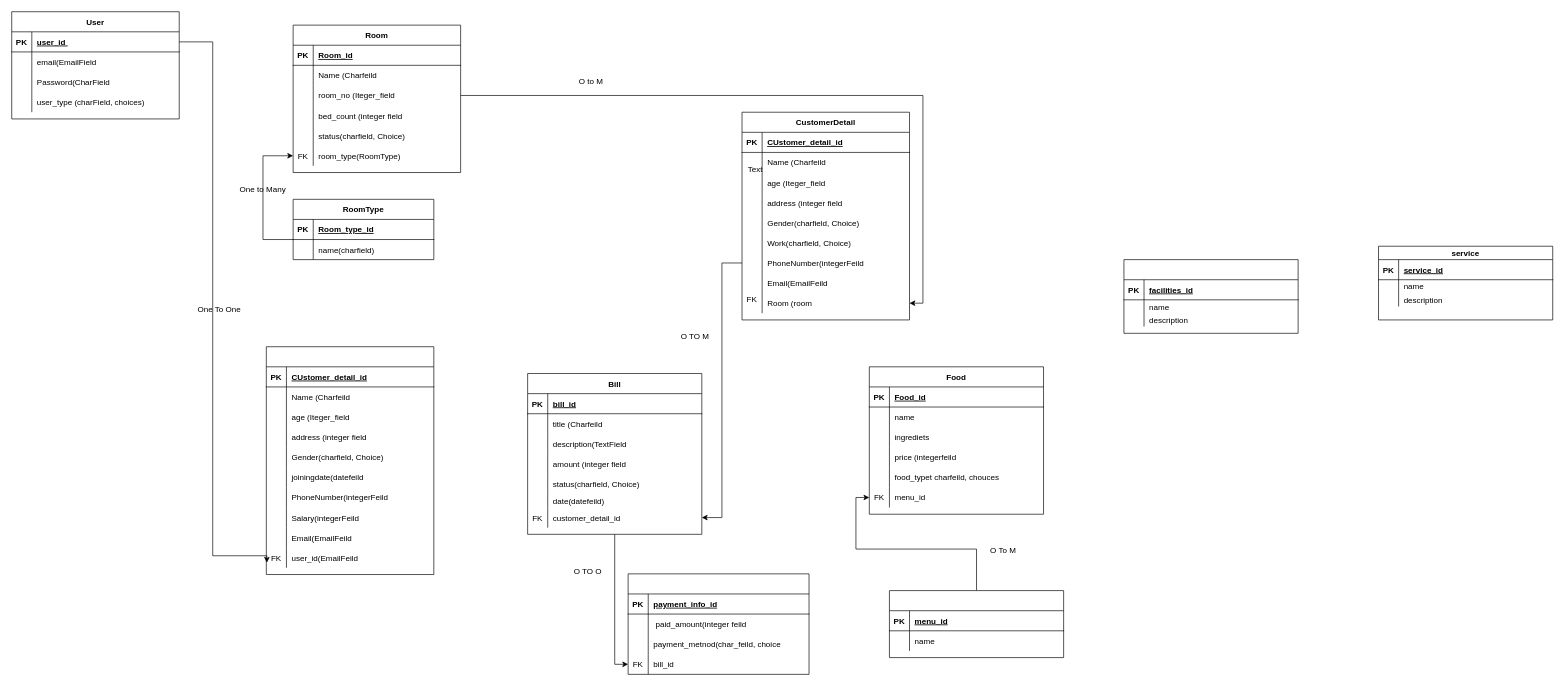
Image size: 1564x686. Some labels were removed from this diagram. Each missing label, with the box of its shape:
Employee: (266, 346, 434, 575)
Facilites: (1123, 259, 1298, 333)
menuType: (889, 590, 1064, 658)
Pyment_info: (627, 573, 809, 674)
